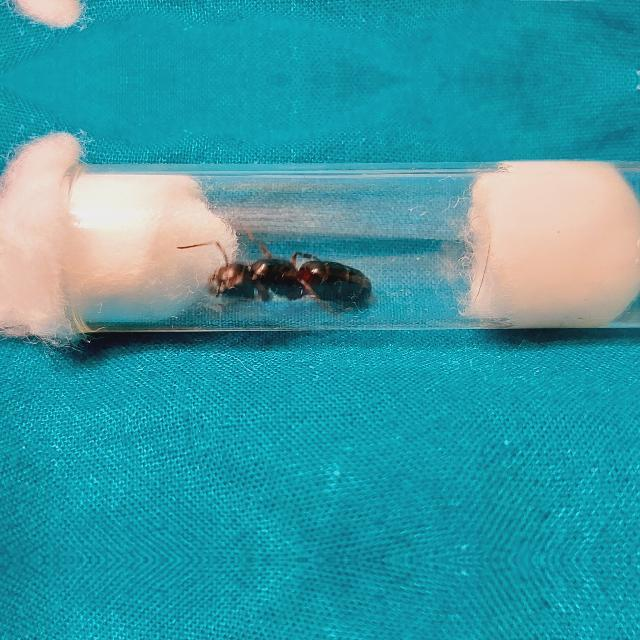Camponotus: (182, 231, 382, 321)
